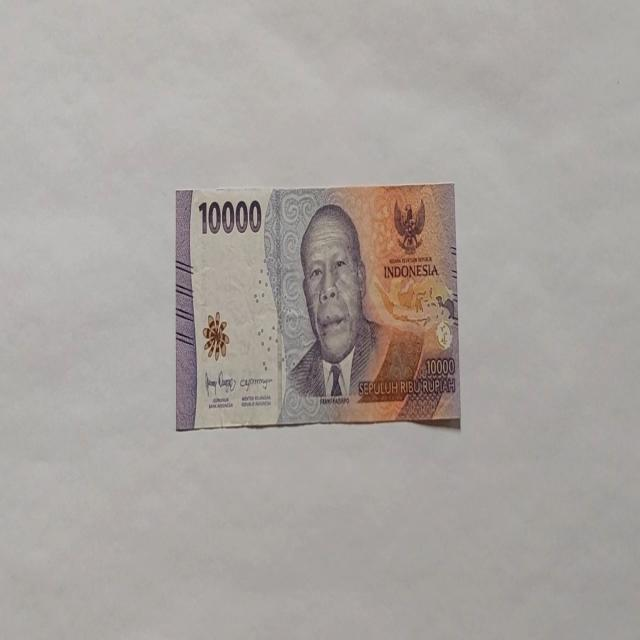sepuluh ribu rupiah: (174, 181, 460, 431), (274, 201, 422, 422)
